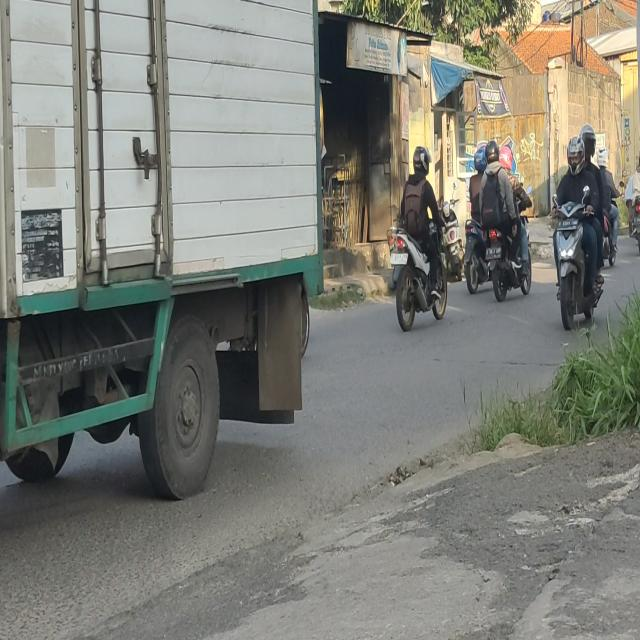helmet: (565, 138, 586, 170), (580, 122, 596, 159), (414, 145, 430, 174), (475, 142, 488, 169), (486, 142, 501, 163), (500, 146, 513, 170), (597, 148, 609, 167)
